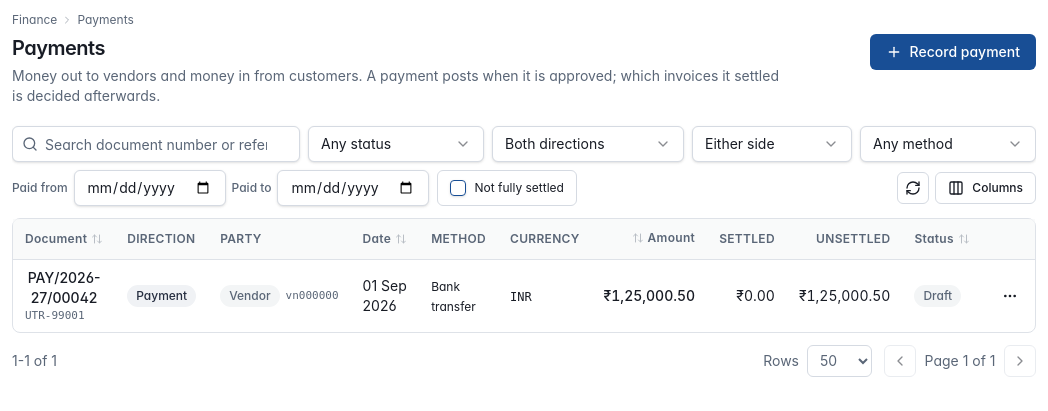
Test: the two rights this screen spans › gives someone who may record, and not approve, exactly the recording controls
Expected: the button "PAY/2026-27/00042" is shown, [25,268,103,308]
Expected: the button "Record payment" is shown, [870,34,1036,70]
Click the button named "Actions for PAY/2026-27/00042" at (1010, 296), box [994,280,1026,312]
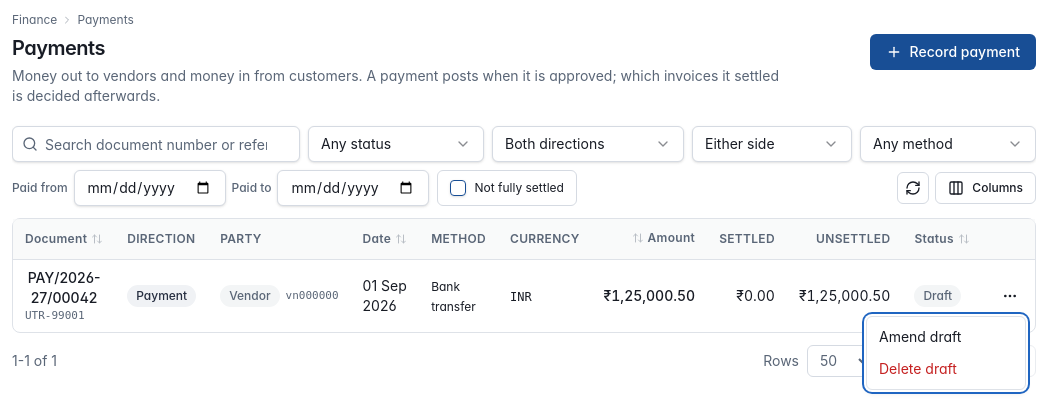
Expected: the menu item "Amend draft" is shown, [879,328,961,345]
Expected: the menu item "Delete draft" is shown, [879,360,957,377]
